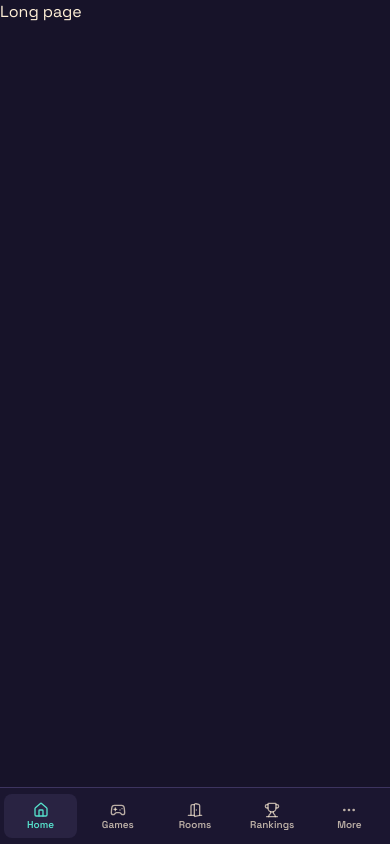
Shared Dashboard Layout & Sidebar Structure › shows the Admin entry in the mobile drawer only for verified admins
Click the button with test id "mobile-nav-more". click: (349, 816)
box: [313, 794, 386, 838]
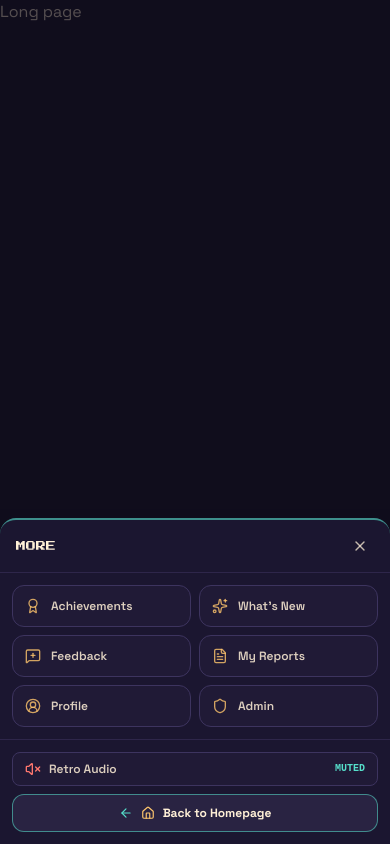
Result: the button with test id "mobile-more-nav-admin" is shown at [199, 685, 378, 727]
